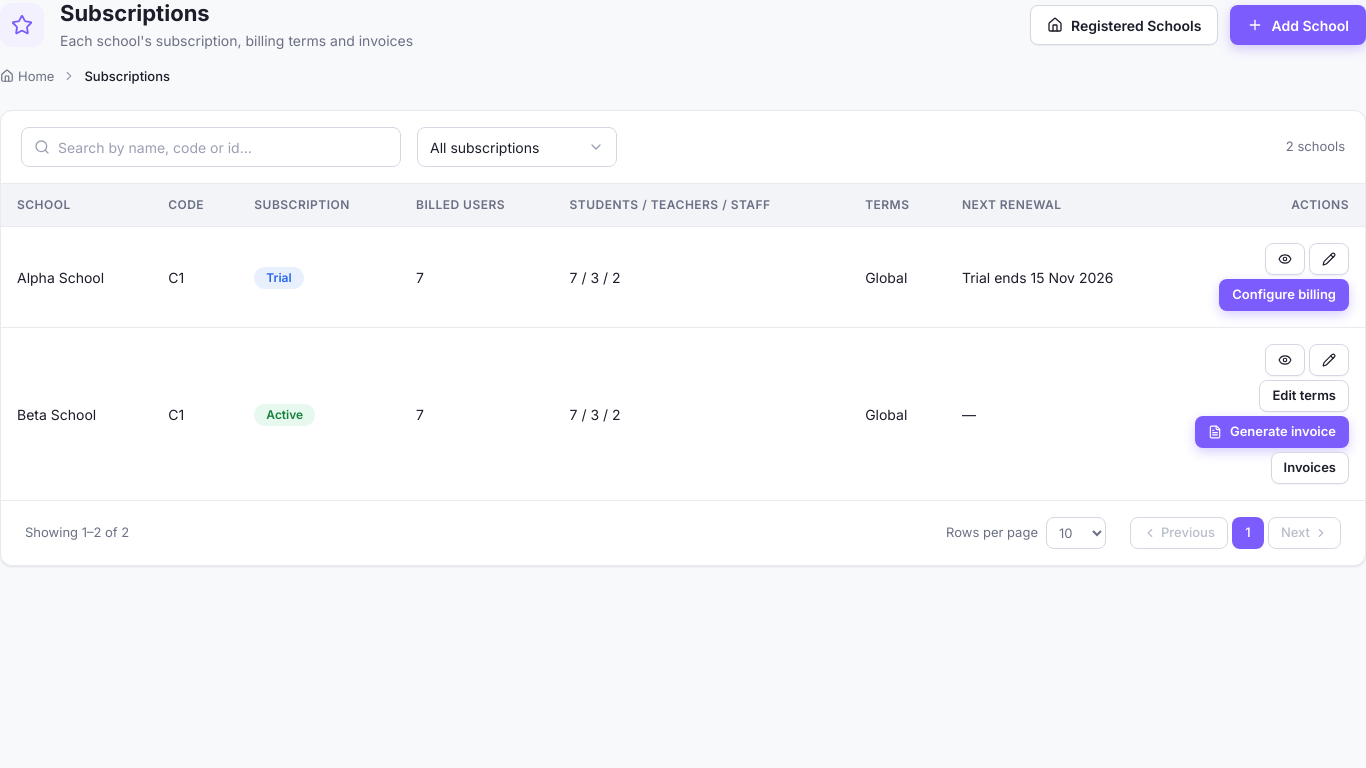
Test: SubscriptionsPageComponent › opens the configure dialog for a trial and the terms dialog for a configured school, with the global defaults as placeholders
The width and height of the screenshot is (1366, 768).
Click the button "Configure billing".
click(1284, 295)  # box [1219,279,1349,311]
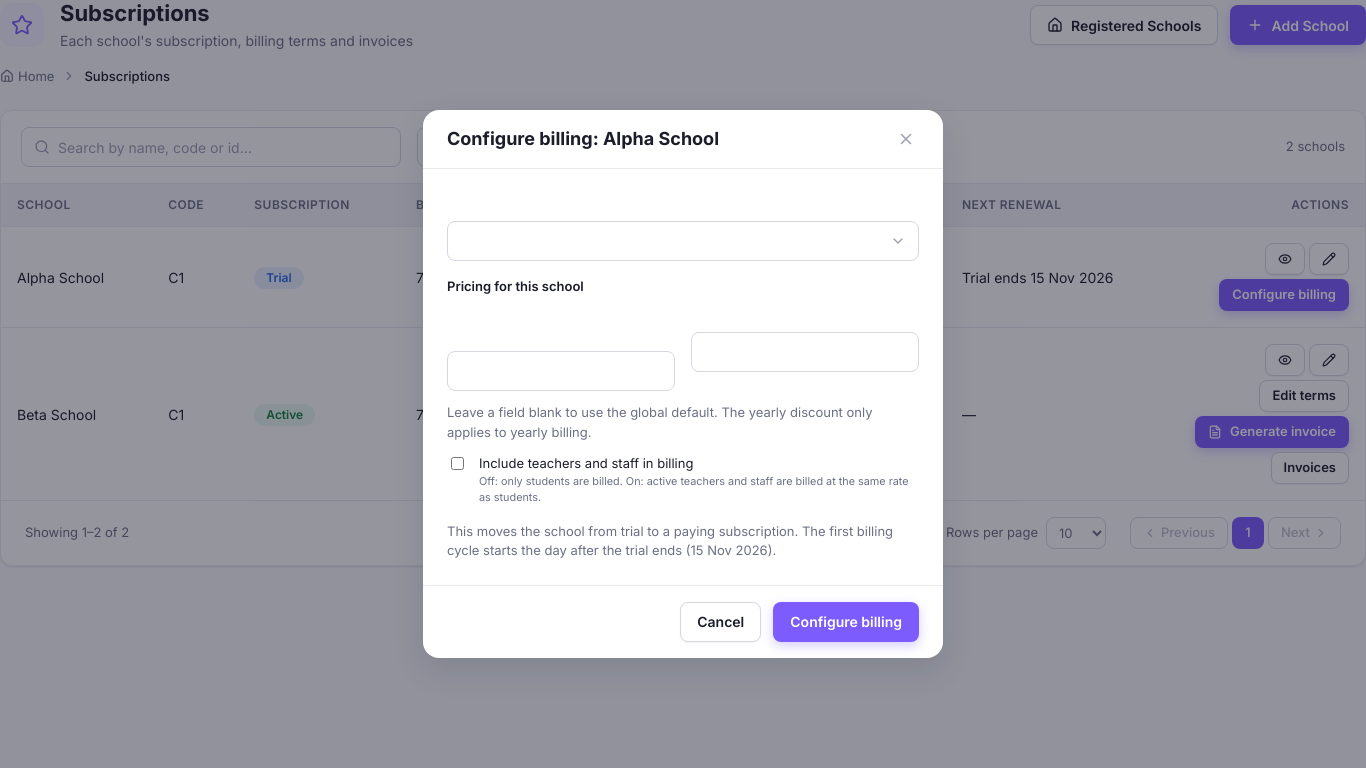
Result: the text "Configure billing: Alpha School" is shown at [447,128,719,150]
Click the button with class "close".
click(906, 139)  # box [893,126,919,152]
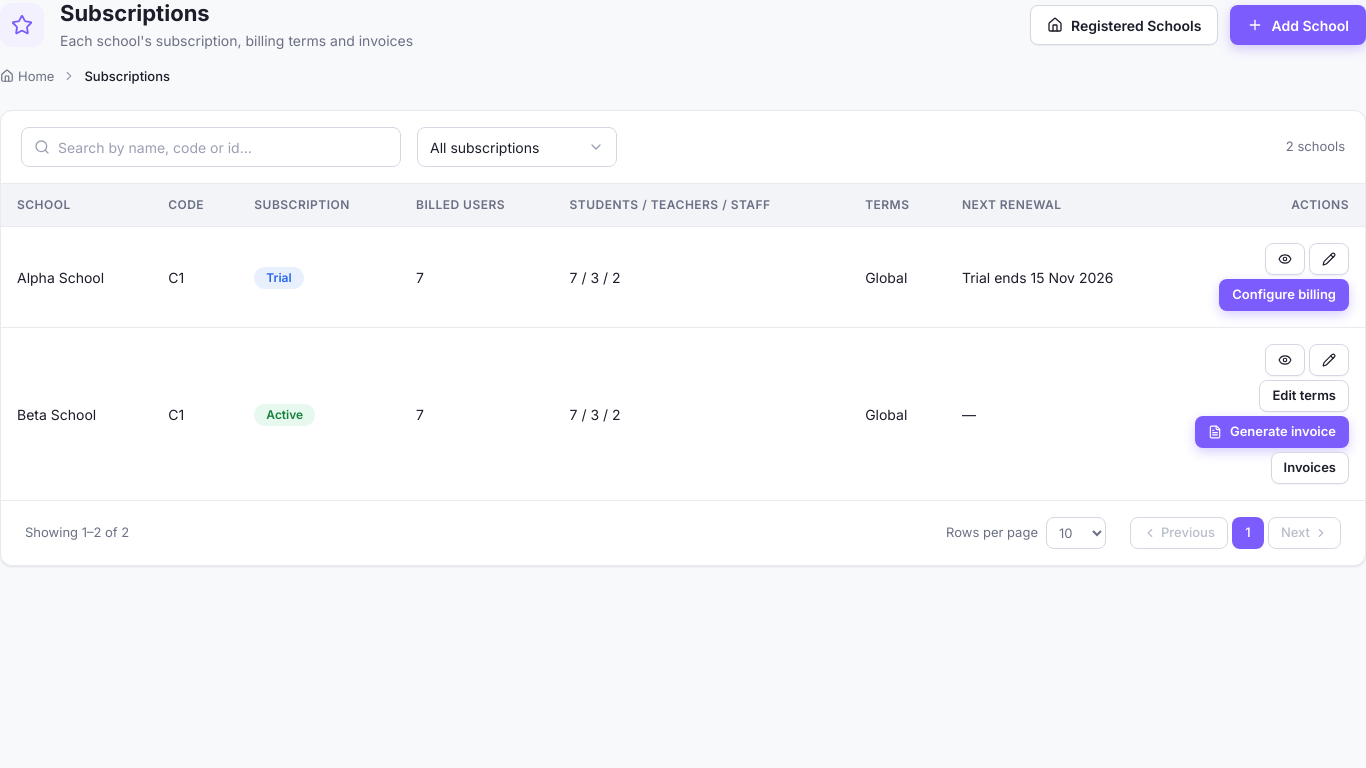
Click the button "Edit terms".
click(1304, 396)  # box [1260,380,1349,412]
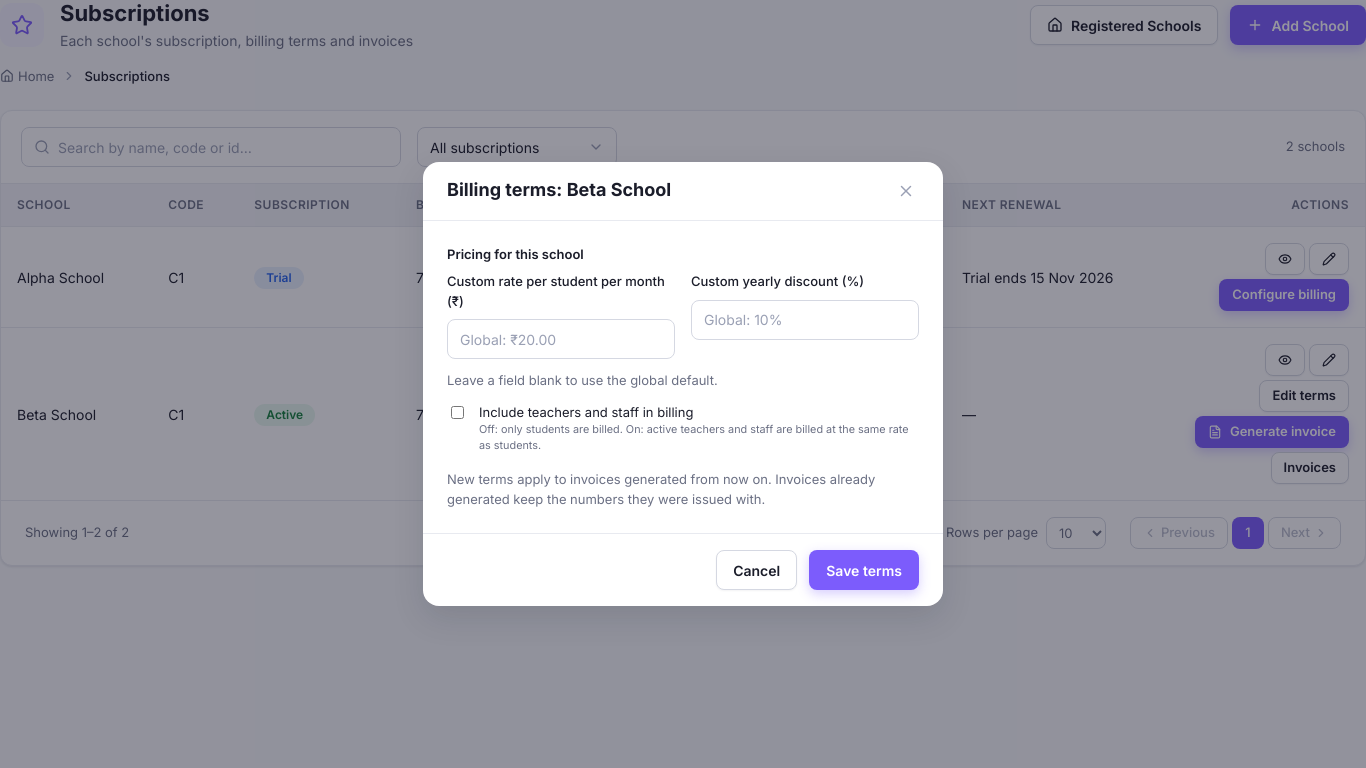
Result: the text "Billing terms: Beta School" is shown at [447,179,671,202]
